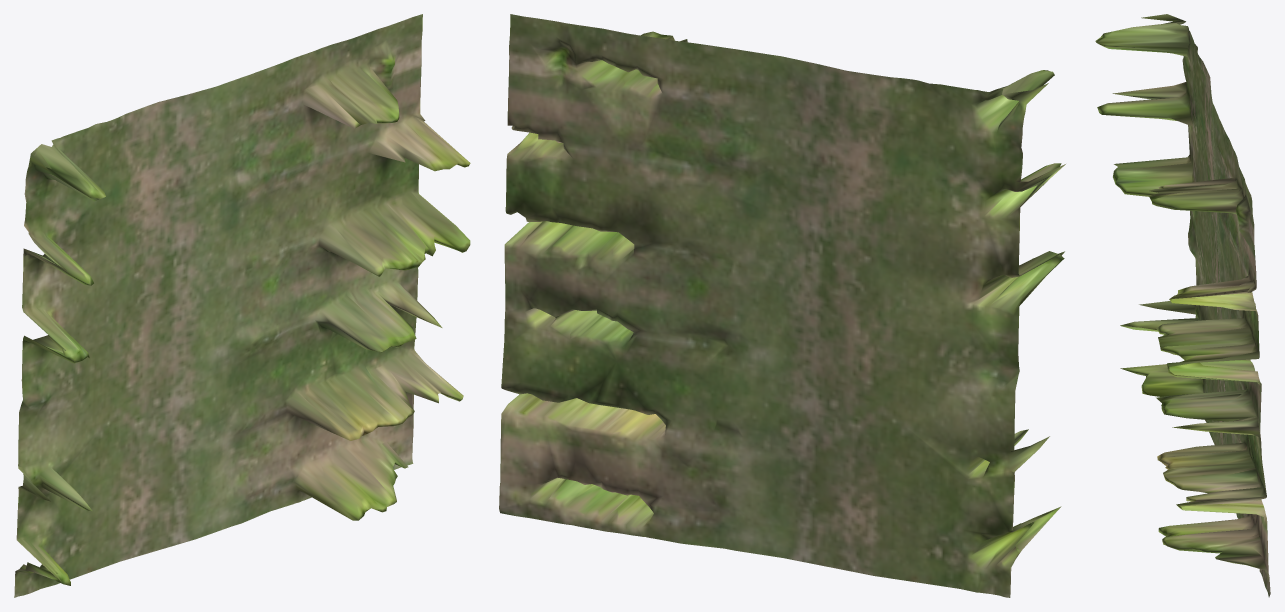
The model's file is map_130_10.obj.
3 views of the same model, side by side, from view 1: azimuth 30°, elevation 25°; view 2: azimuth 150°, elevation 25°; view 3: azimuth 270°, elevation 25° (orthographic). The views are drawn at different scales.
Bounding box in the file's own units: 10 × 10 × 3.99.
1 material, 1 textured.
